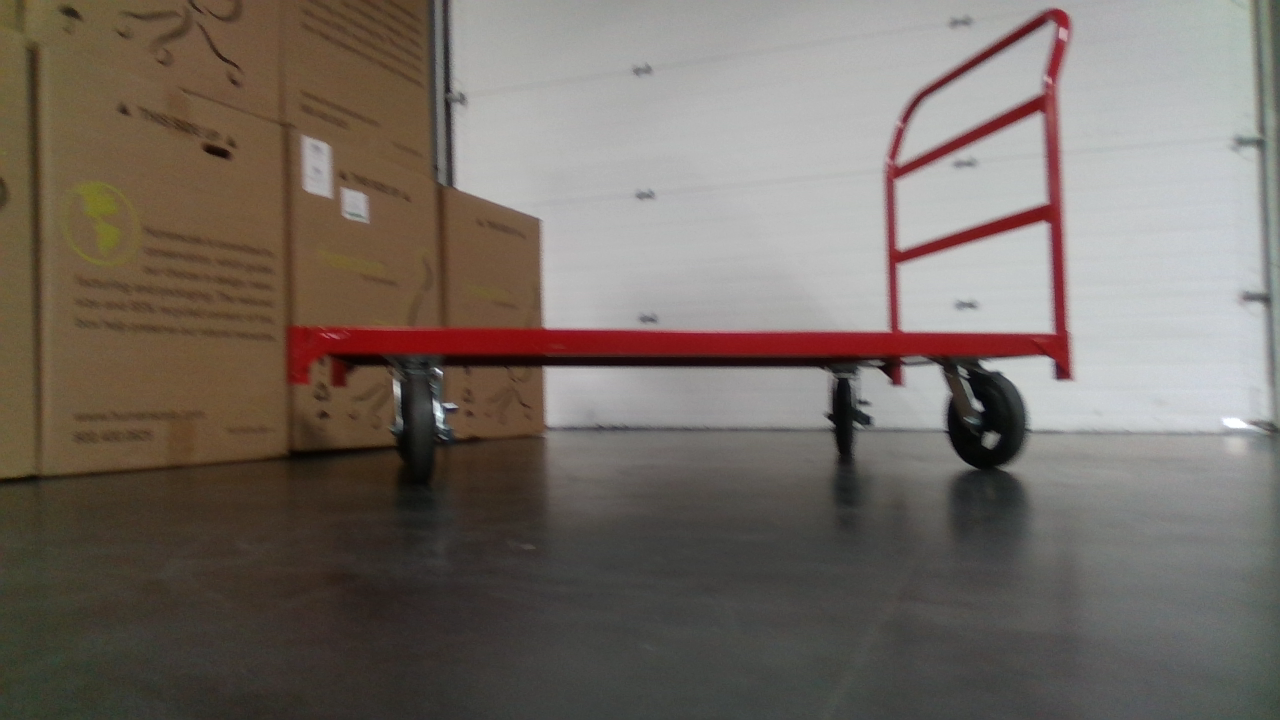Dolly: (268, 3, 1083, 493)
Wheel: (380, 364, 463, 490), (938, 368, 1033, 473), (819, 374, 872, 467)
